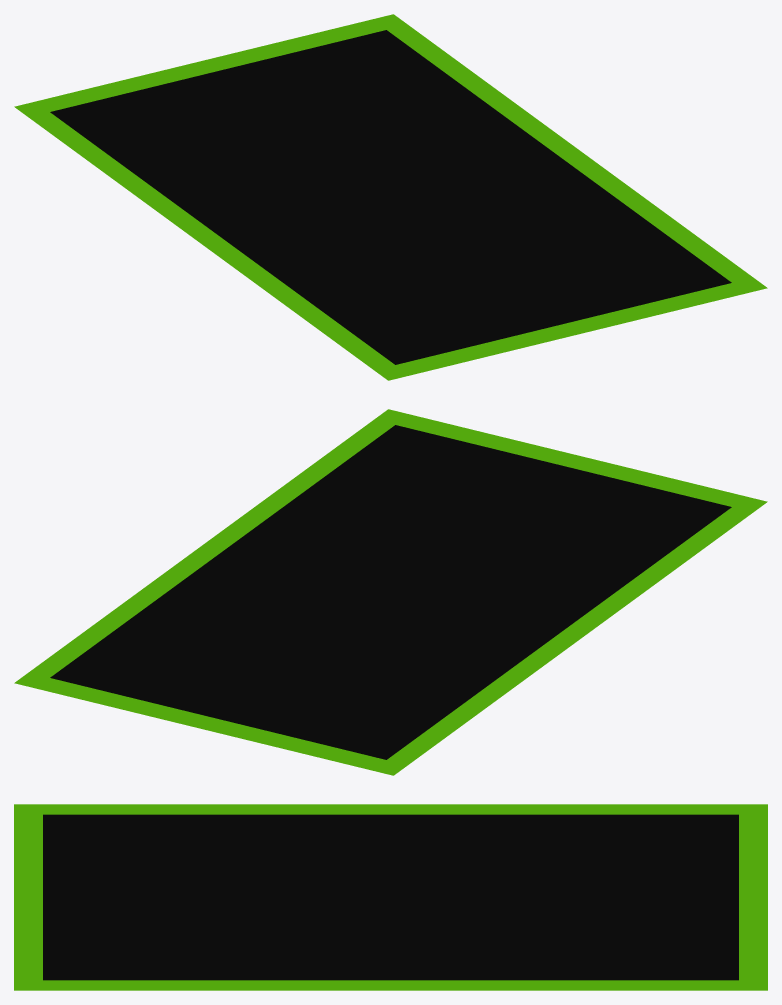
Rendered from CeilingWallOne.fbx.
The picture shows the model from 3 angles, top to bottom: view 1: azimuth 30°, elevation 25°; view 2: azimuth 150°, elevation 25°; view 3: azimuth 270°, elevation 25°; orthographic projection.
Parts seen in each view (by area): view 1: pPlane1; view 2: pPlane1; view 3: pPlane1.
Boxes of the visible parts, <box> form: pPlane1: <box>14,14,767,380</box>; pPlane1: <box>14,409,767,775</box>; pPlane1: <box>14,804,767,990</box>.
Bounding box in the file's own units: 8.12 × 0 × 13.87.
